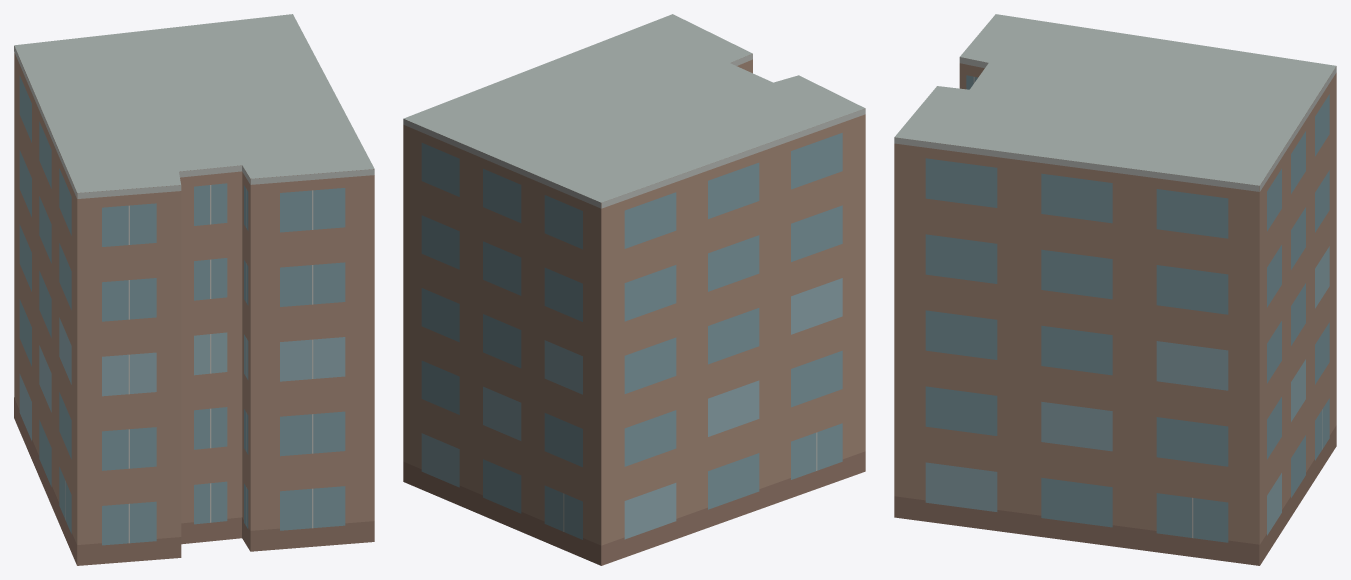
File: survey-upis-33015104.glb
3 renders of one model, left to right at view 1: azimuth 30°, elevation 25°; view 2: azimuth 150°, elevation 25°; view 3: azimuth 270°, elevation 25°, orthographic. The views are drawn at different scales.
Parts seen in each view (by area): view 1: survey-upis-33015104.tmp; view 2: survey-upis-33015104.tmp; view 3: survey-upis-33015104.tmp.
Boxes of the visible parts, x1=… form: survey-upis-33015104.tmp: x1=14, y1=14, x2=374, y2=565; survey-upis-33015104.tmp: x1=403, y1=14, x2=865, y2=565; survey-upis-33015104.tmp: x1=894, y1=14, x2=1336, y2=565.
Size of the model in its own units: 14.45 by 14.9 by 15.72.
